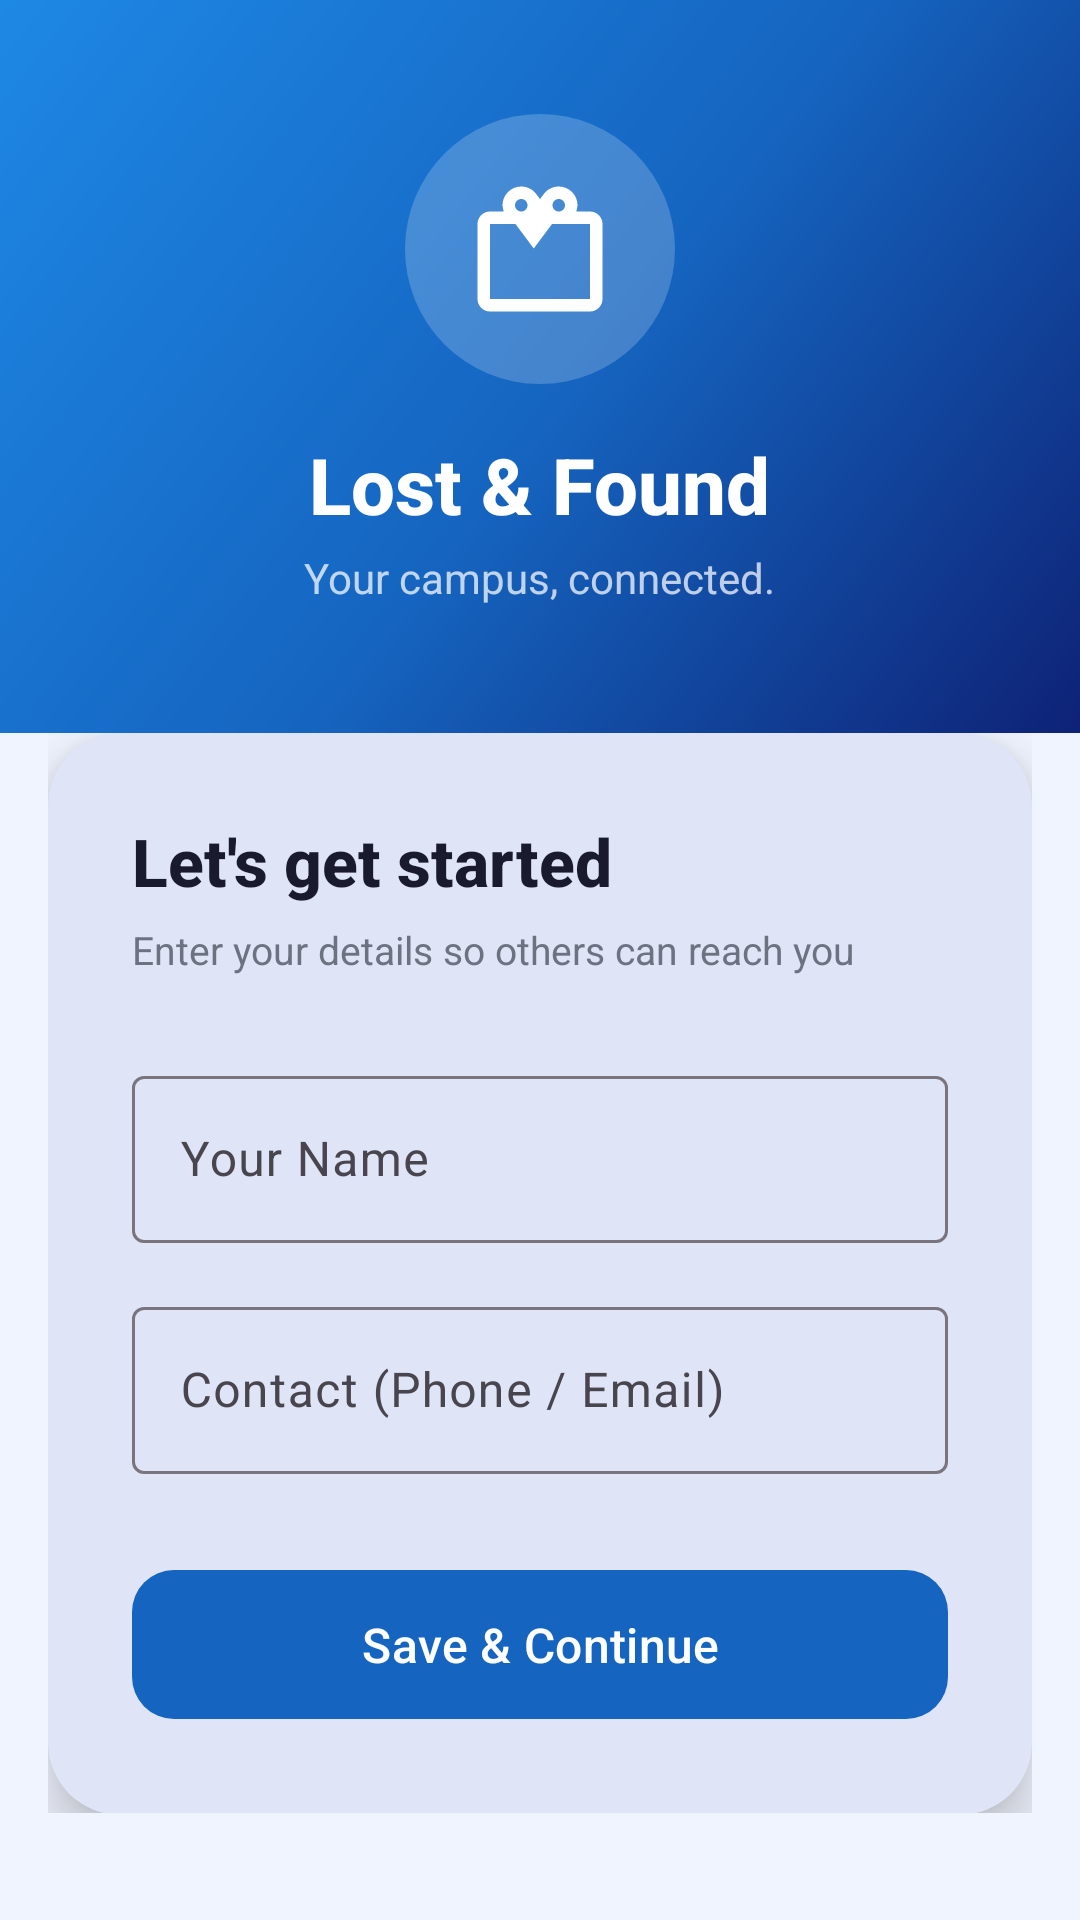

Icons on this 1080 x 1920 Android screen, each with its box as box=[x1, y1, x2, y2]:
App icon: box=[477, 186, 603, 312]
